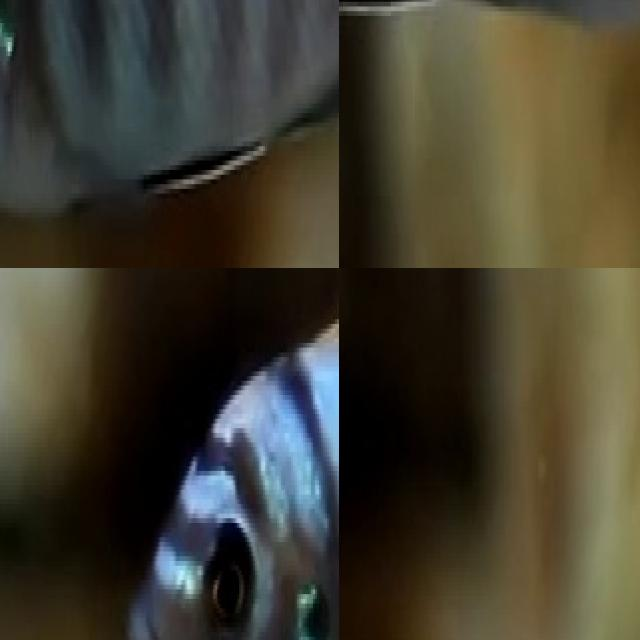fish: (0, 0, 339, 268), (117, 268, 339, 640)
